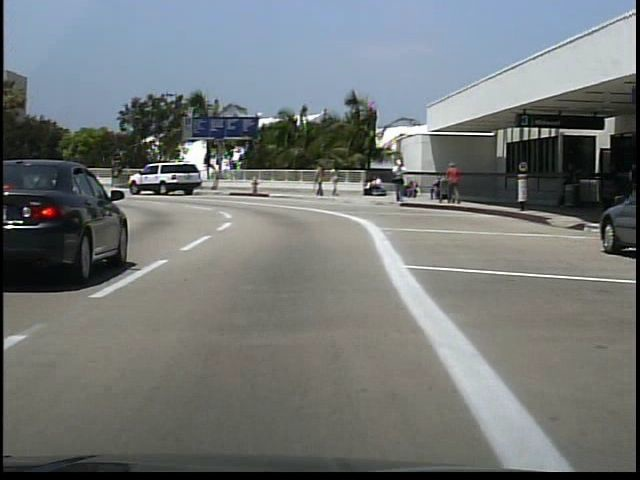person: (393, 156, 410, 207), (447, 159, 465, 204), (331, 162, 345, 200), (316, 160, 329, 197), (364, 177, 385, 197)
